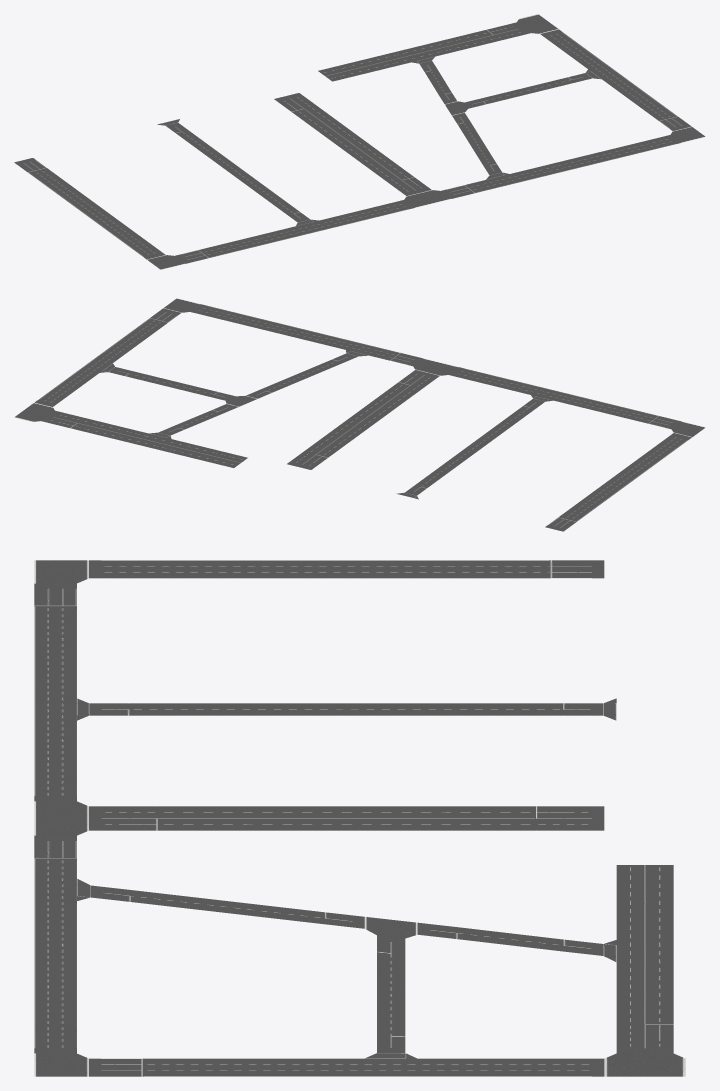
File: RDp_2_FV.obj
3 renders of one model, top to bottom at view 1: azimuth 30°, elevation 25°; view 2: azimuth 150°, elevation 25°; view 3: azimuth 270°, elevation 25°, orthographic. The views are drawn at different scales.
Parts seen in each view (by area): view 1: RD_65, RD_83, RD_113, RD_117, RD_71, RD_107, RD_77, RD_102, RD_96, RD_86, RD_68; view 2: RD_65, RD_83, RD_117, RD_113, RD_71, RD_107, RD_77, RD_102, RD_96, RD_86, RD_68; view 3: RD_83, RD_65, RD_71, RD_107, RD_113, RD_117, RD_77, RD_96, RD_102, RD_68, RD_86, RD_84 (+9 smaller).
Boxes of the visible parts, x1,y1,x2,y2 form: RD_65: (318, 30, 499, 81); RD_83: (292, 106, 413, 182); RD_113: (199, 201, 409, 257); RD_117: (465, 136, 675, 192); RD_71: (28, 168, 161, 257); RD_107: (543, 32, 677, 120); RD_77: (176, 130, 299, 214); RD_102: (483, 77, 574, 103); RD_96: (458, 121, 496, 166); RD_86: (404, 190, 450, 207); RD_68: (517, 14, 558, 33); RD_65: (71, 418, 247, 467); RD_83: (304, 382, 422, 457); RD_117: (195, 305, 399, 360); RD_113: (454, 368, 657, 423); RD_71: (559, 435, 688, 521); RD_107: (38, 318, 167, 404); RD_77: (415, 406, 534, 487); RD_102: (126, 371, 217, 396); RD_96: (261, 359, 343, 392); RD_86: (413, 358, 458, 375); RD_68: (14, 402, 54, 421); RD_83: (158, 806, 534, 830); RD_65: (616, 865, 673, 1024); RD_71: (101, 560, 549, 578); RD_107: (144, 1058, 591, 1076); RD_113: (34, 606, 76, 795); RD_117: (34, 859, 76, 1048); RD_77: (130, 703, 562, 715); RD_96: (131, 890, 323, 924); RD_102: (377, 952, 405, 1035); RD_68: (604, 1053, 685, 1076); RD_86: (34, 801, 88, 835); RD_84: (101, 806, 158, 830).
Bounding box in the file's own units: 984 × 0 × 525.
